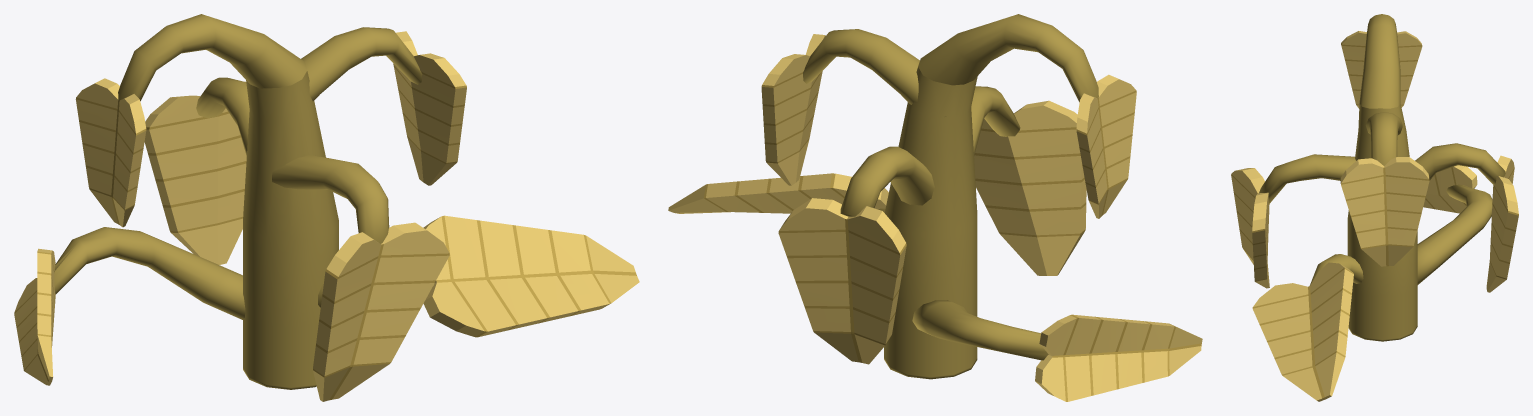
The model's file is wilted plant.fbx.
3 views of the same model, side by side, from view 1: azimuth 30°, elevation 25°; view 2: azimuth 150°, elevation 25°; view 3: azimuth 270°, elevation 25° (orthographic). The views are drawn at different scales.
Visible parts, largest first — view 1: Cylinder.006; view 2: Cylinder.006; view 3: Cylinder.006.
Part boxes in pixels (x1=…): Cylinder.006: x1=14, y1=14, x2=639, y2=401; Cylinder.006: x1=668, y1=14, x2=1202, y2=401; Cylinder.006: x1=1231, y1=14, x2=1518, y2=401.
Size of the model in its own units: 328 by 207 by 198.
